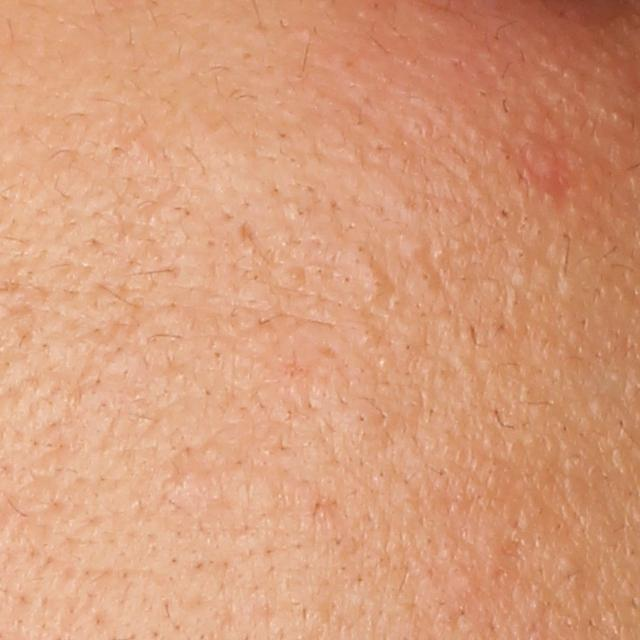comedo: (361, 268, 392, 299), (400, 236, 427, 263), (557, 555, 585, 578), (495, 203, 517, 226), (411, 270, 434, 289)
